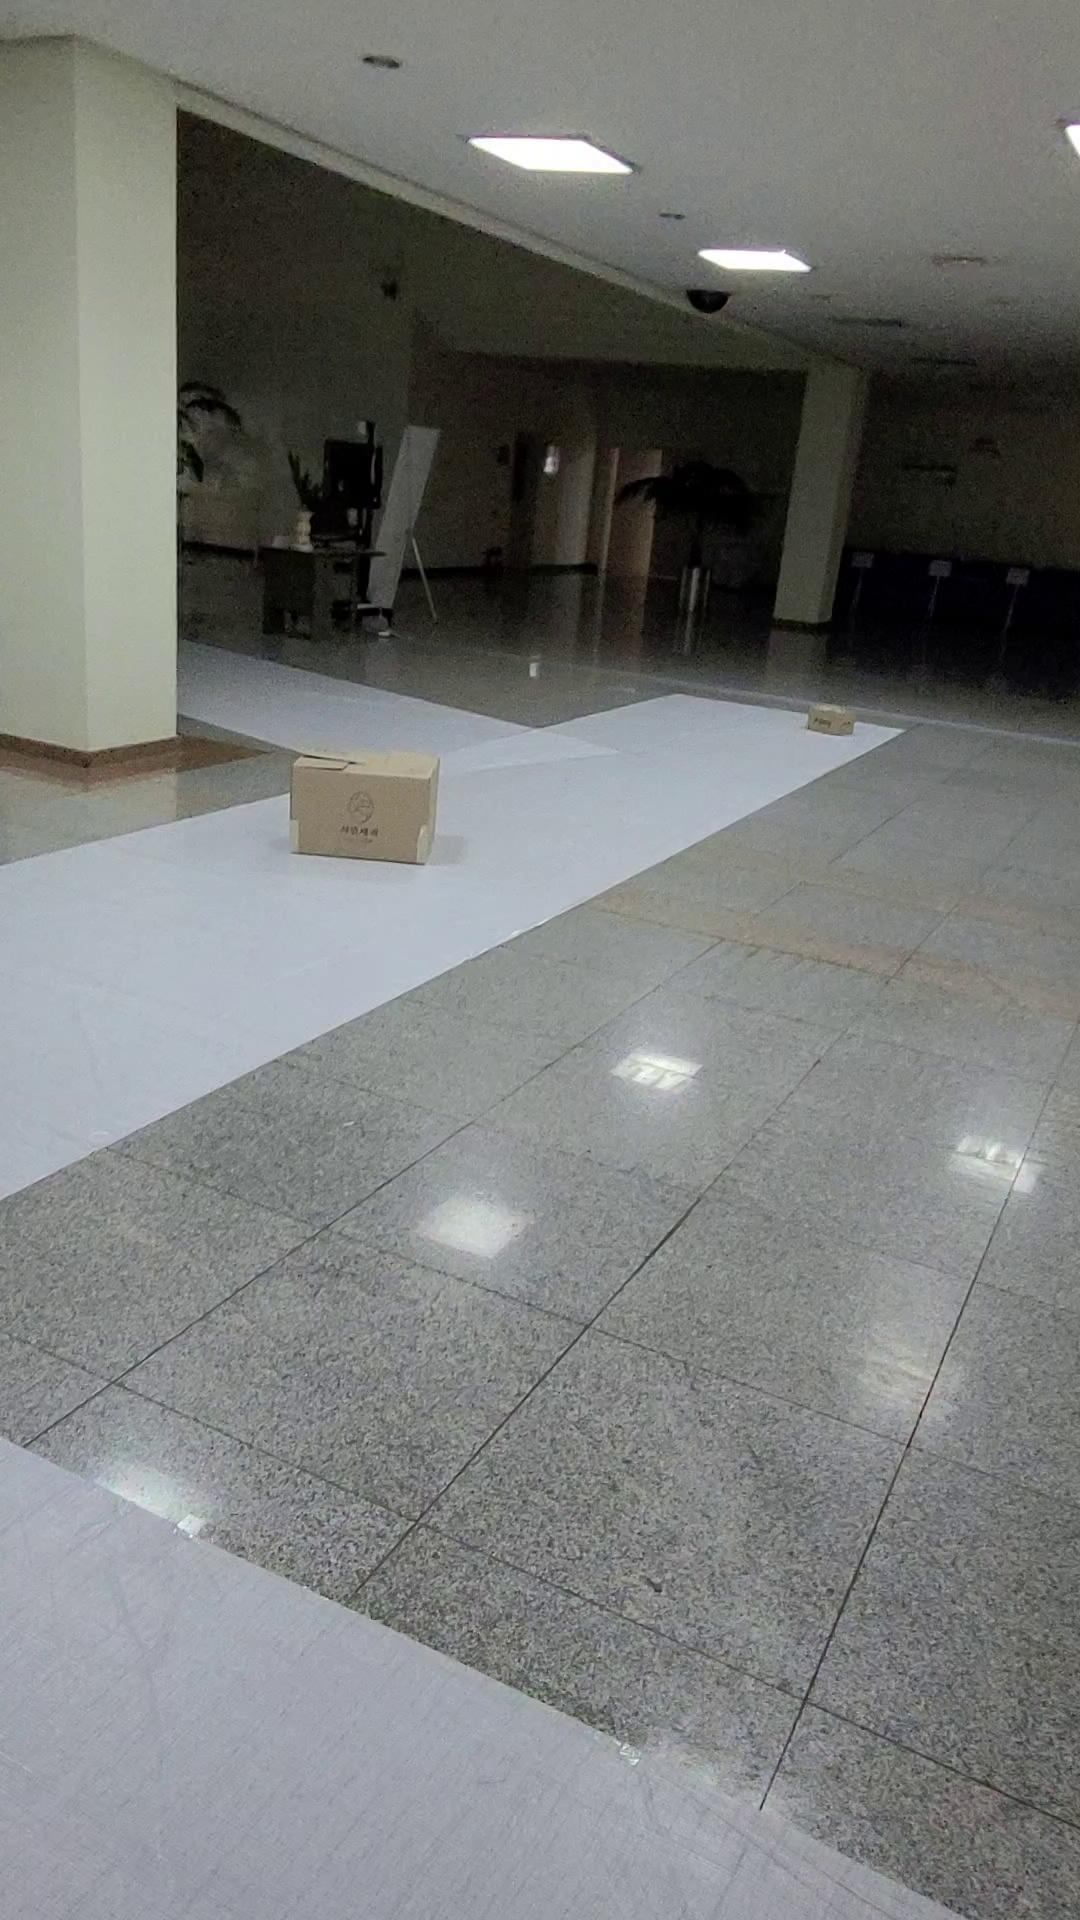Box: (284, 733, 455, 878), (796, 695, 855, 735)
